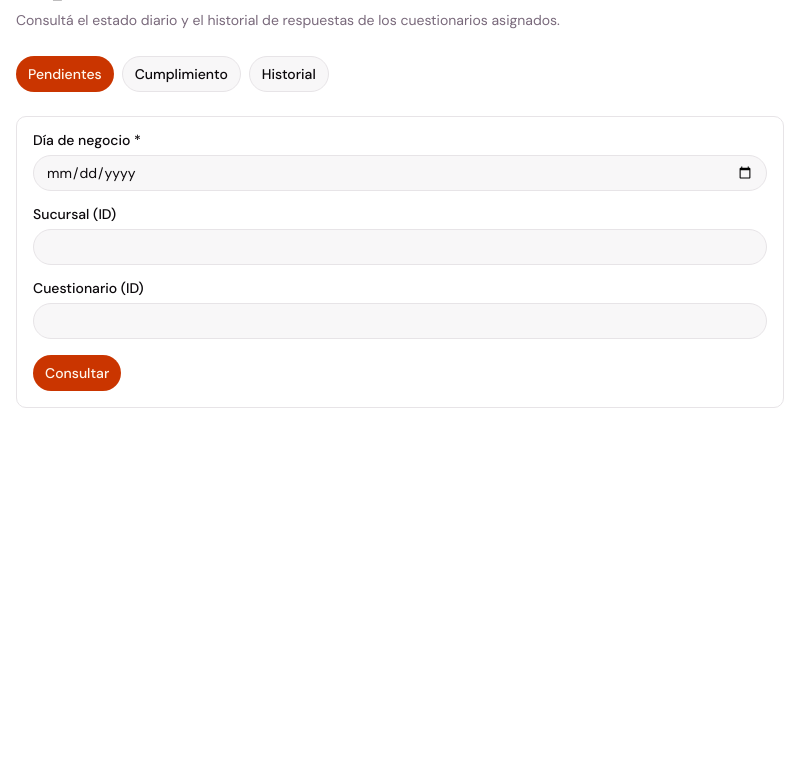
it: ReportsView — paginación › presenta los metadatos y solicita una página válida al avanzar
Click the button "Cumplimiento" at (181, 74), box x1=122 y1=56 x2=241 y2=92
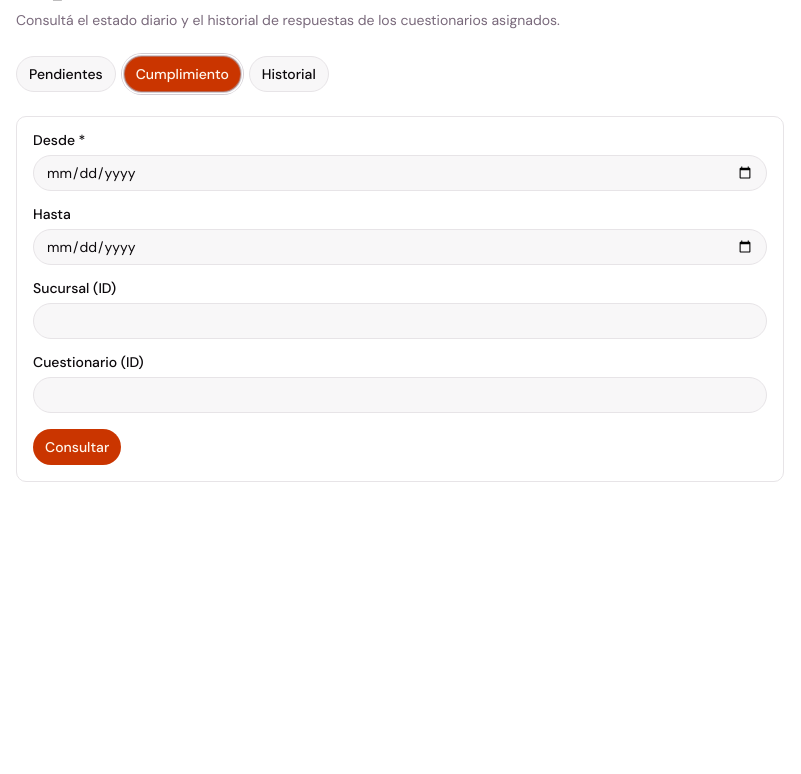
Type "2024-01-01" into the date field labelled "Desde *" at (400, 173), box x1=33 y1=155 x2=767 y2=191
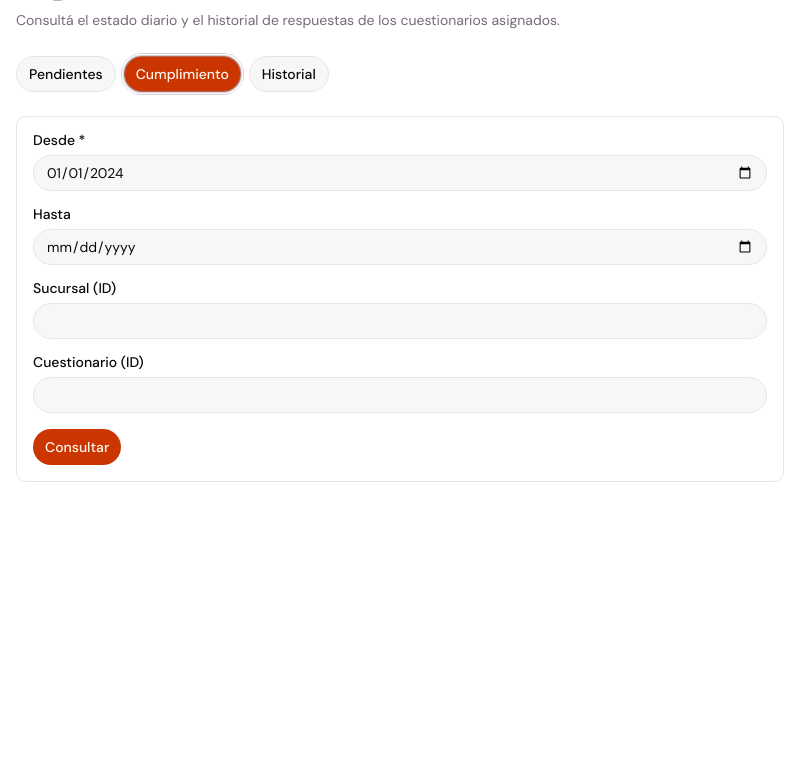
Type "2024-01-15" into the date field labelled "Hasta" at (400, 247), box x1=33 y1=229 x2=767 y2=265
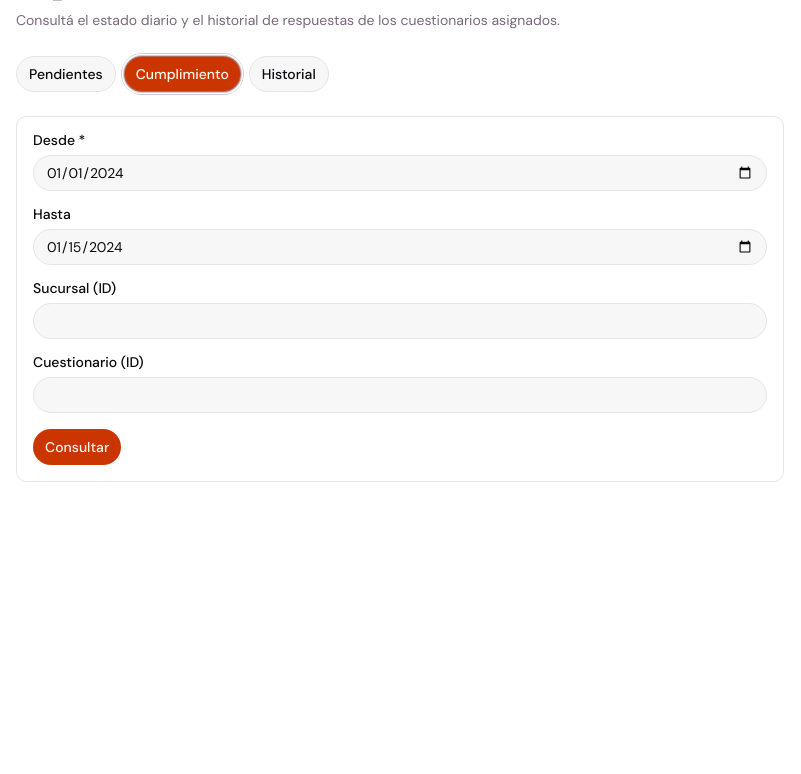
Click the button "Consultar" at (77, 447), box x1=33 y1=429 x2=121 y2=465
(page scrolled)
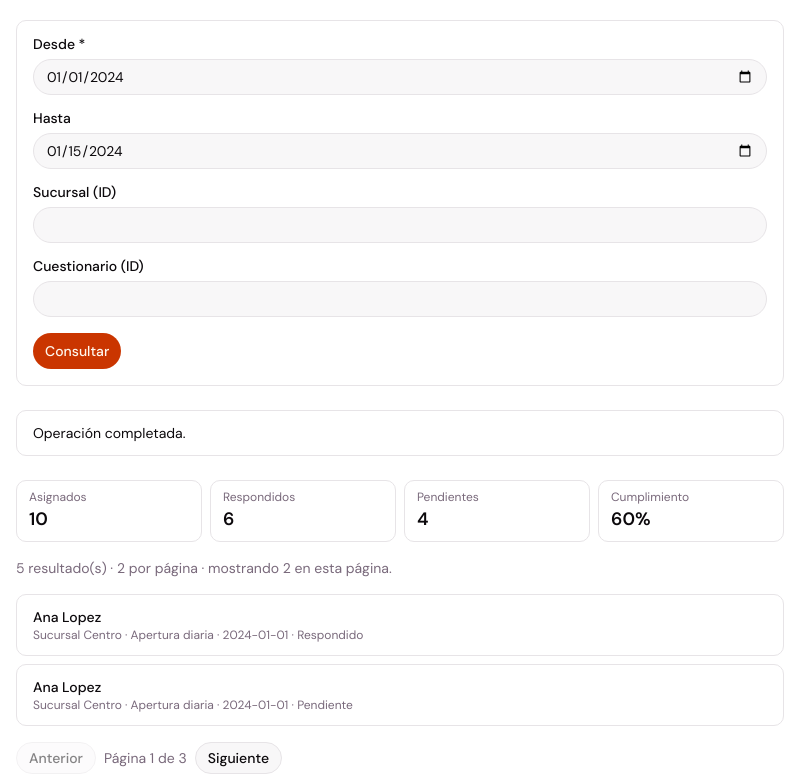
Expected: the text "5 resultado(s) · 2 por página · mostrando 2 en esta página." is shown, x1=16 y1=559 x2=392 y2=577
Expected: the text "Página 1 de 3" is shown, x1=104 y1=748 x2=187 y2=768
Expected: the button with aria-label "Página anterior" is disabled, x1=16 y1=742 x2=96 y2=773
Click the button with aria-label "Página siguiente" at (238, 758), box x1=195 y1=742 x2=282 y2=773
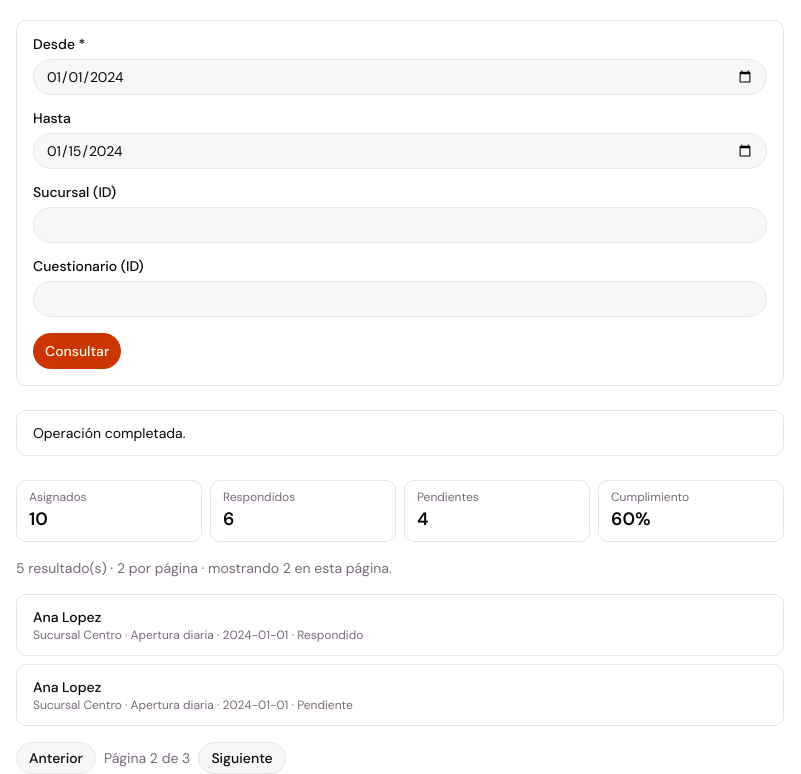
Expected: the text "Página 2 de 3" is shown, x1=104 y1=748 x2=190 y2=768
